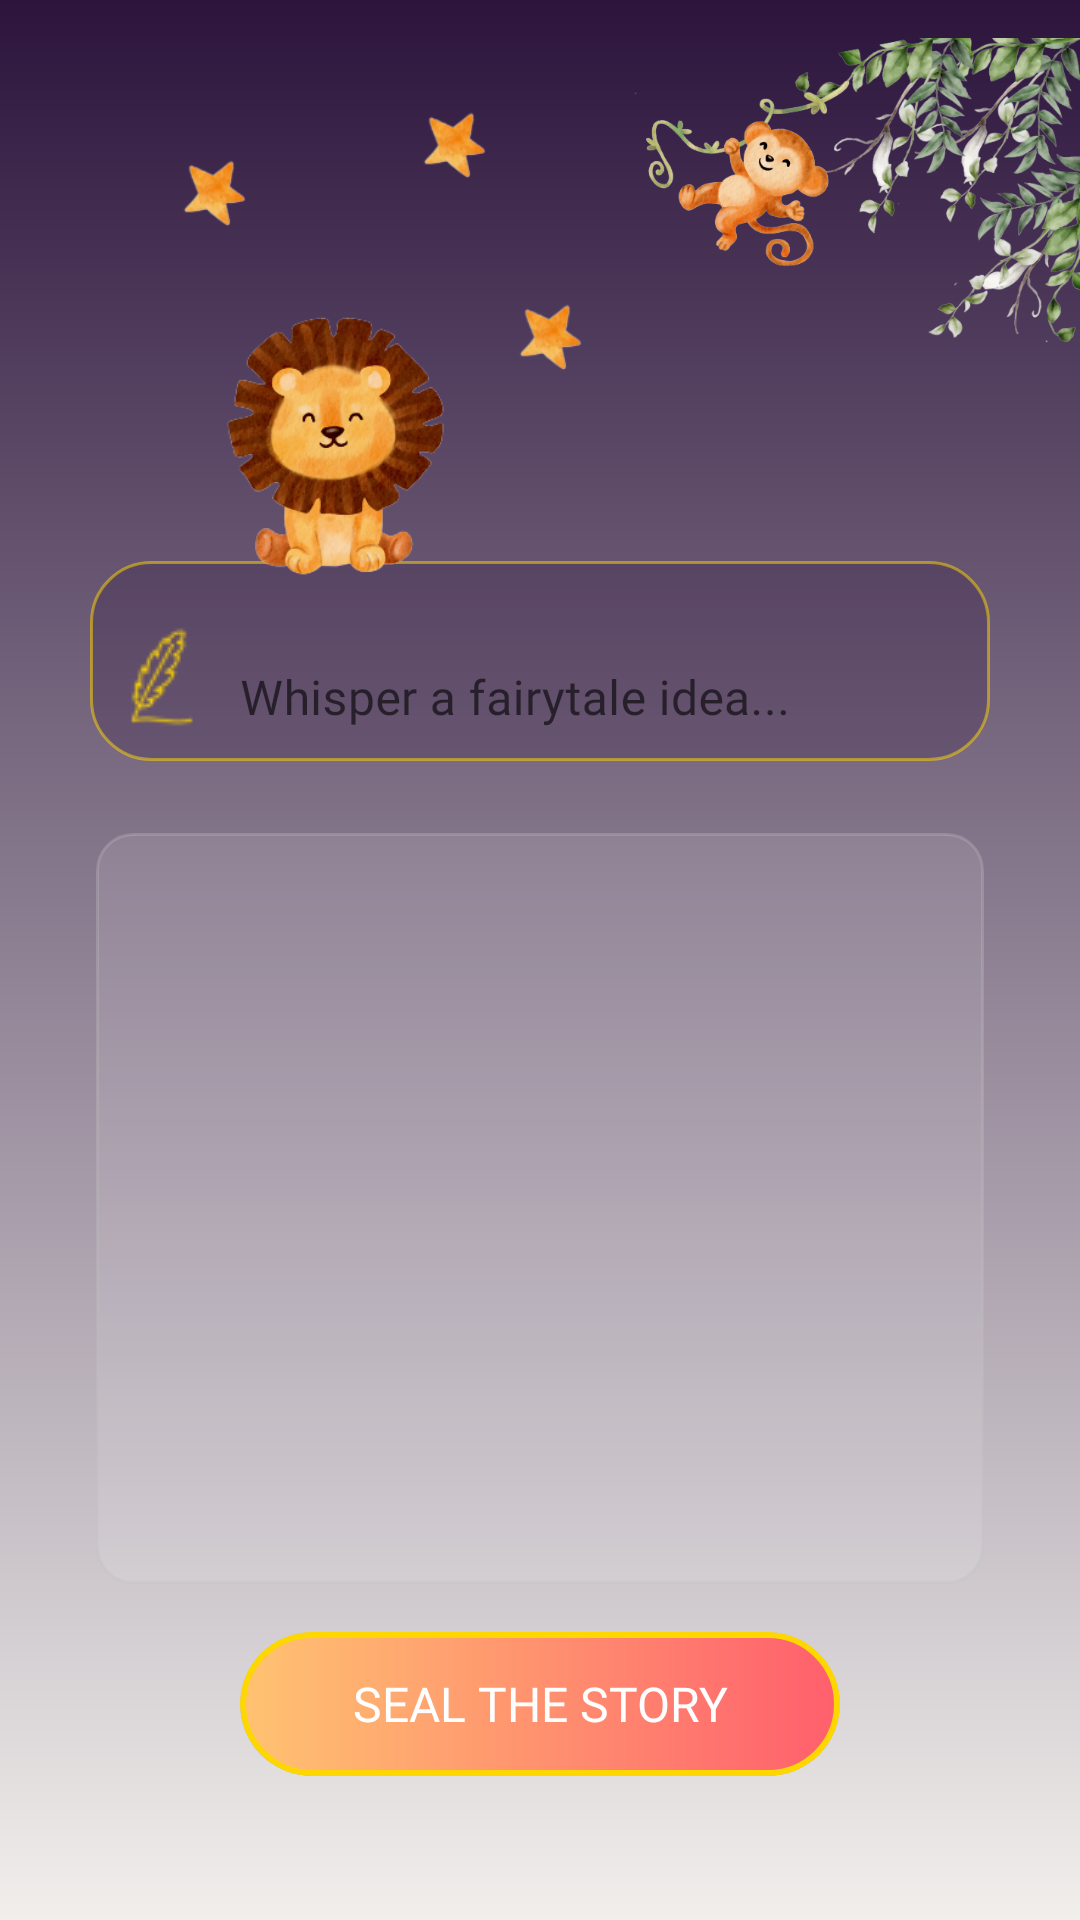

Icon bounding boxes for this 1080×1920 phone screenshot, format bbox(x1, y1, x2, y2):
lion: bbox(192, 318, 474, 575)
